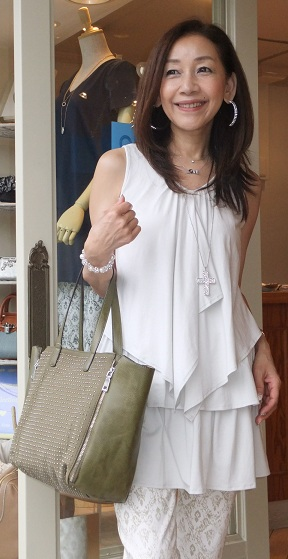face: (160, 35, 237, 131)
hand: (80, 196, 141, 256), (253, 338, 282, 428)
